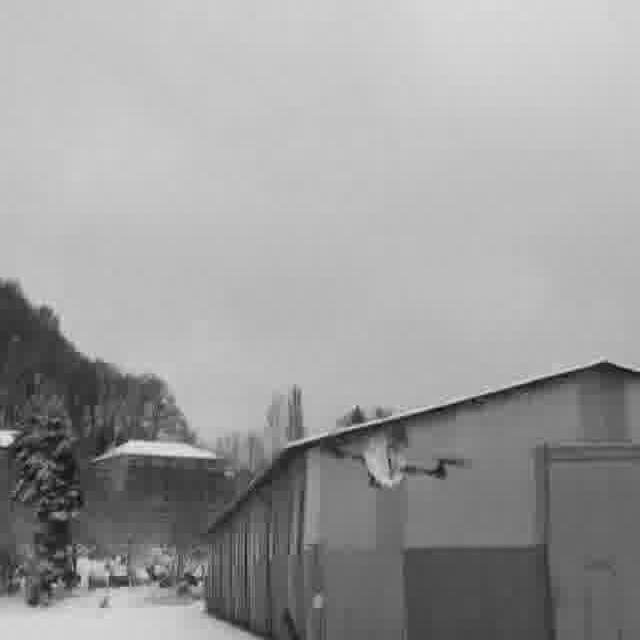drone: (314, 412, 478, 496)
